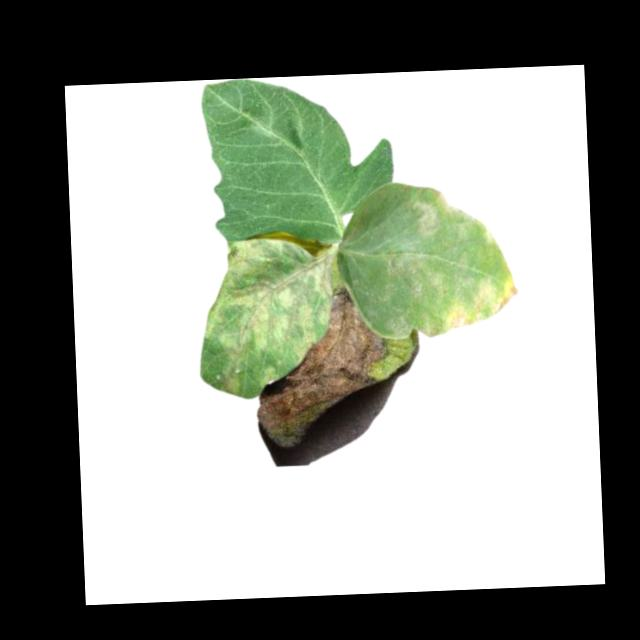Late_blight: (195, 235, 335, 402), (252, 281, 391, 448), (440, 271, 517, 333), (412, 188, 472, 239), (382, 250, 423, 276)
healthy: (197, 72, 397, 247)
